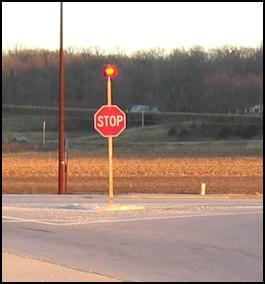Pole: (107, 139, 113, 197)
Sign: (95, 105, 126, 137)
